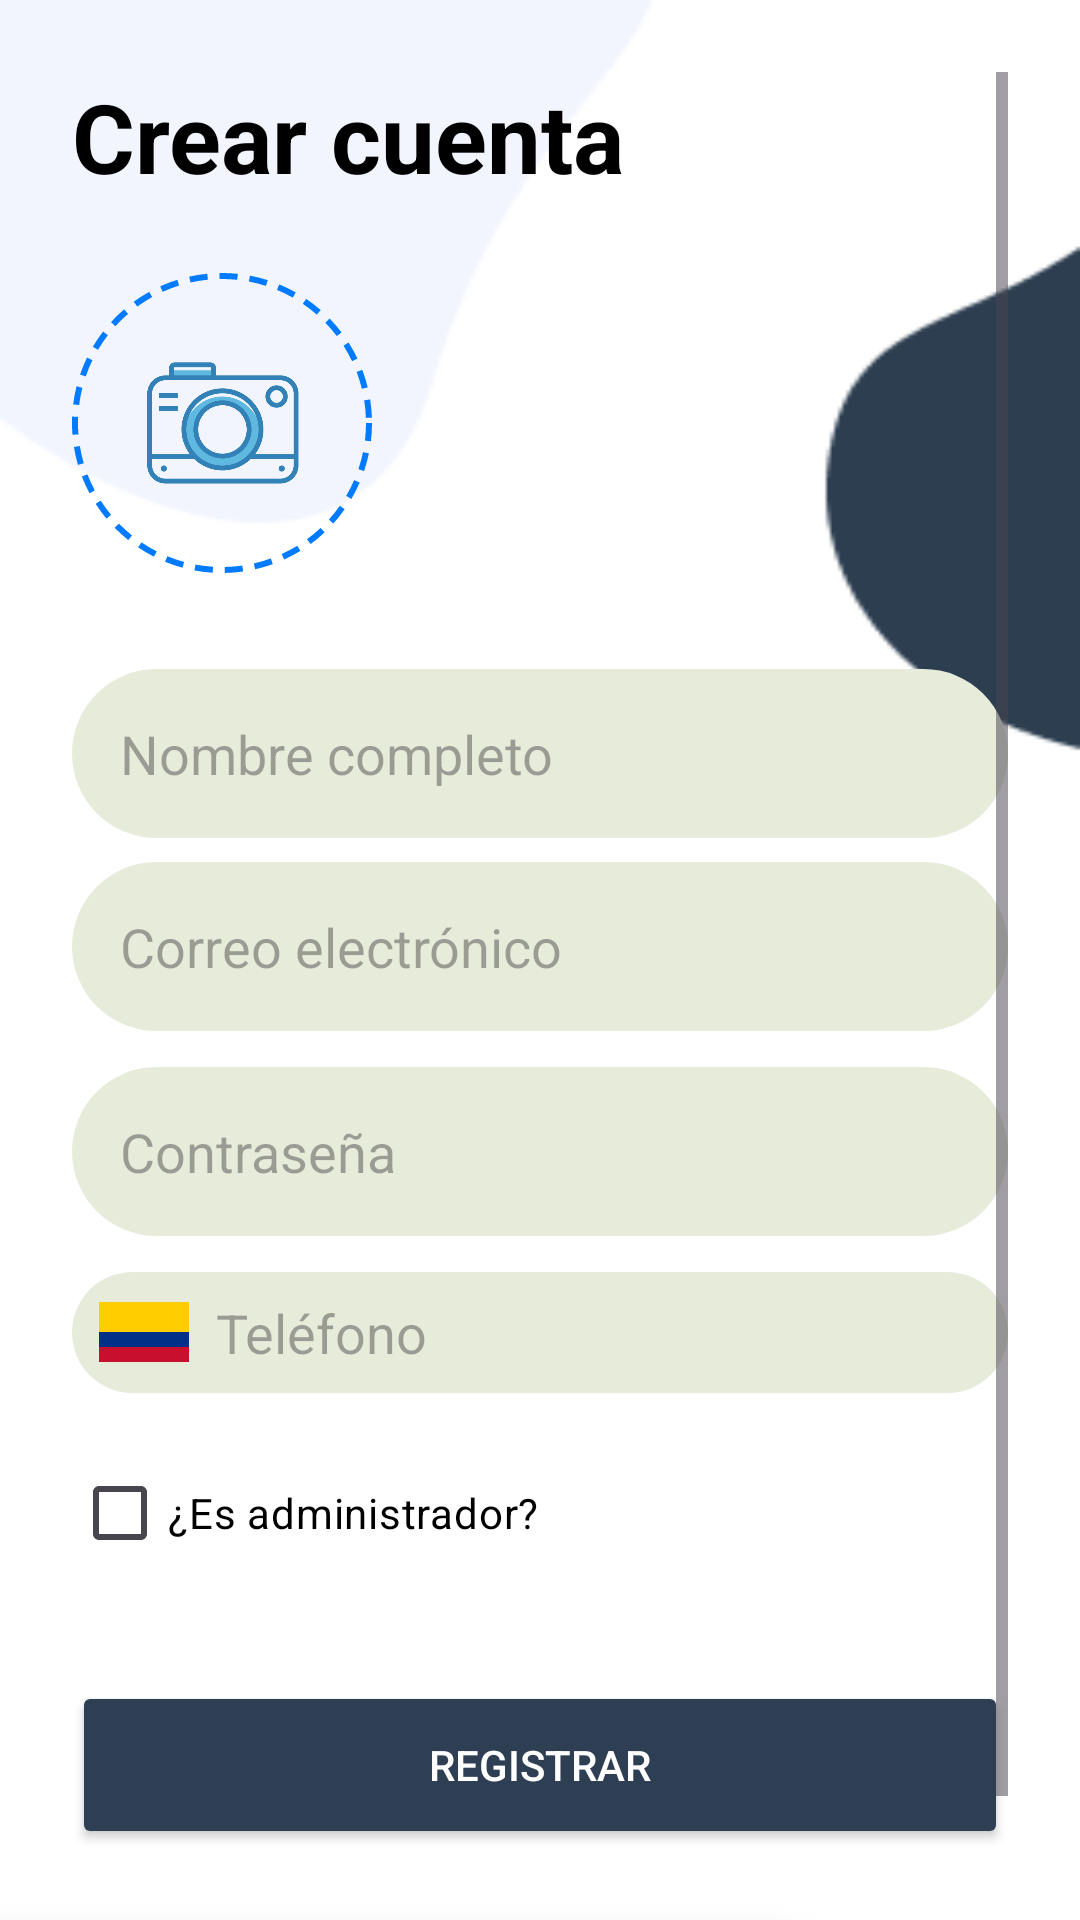

Icons on this 1080px x 1920px Android screen, each with the point to tap as (x,y):
bandera colombia: (144,1332)
camara: (222,423)
